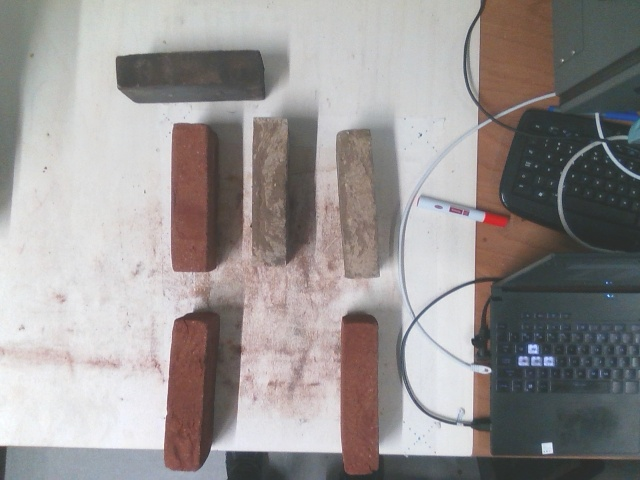brick-side: (339, 127, 381, 278), (163, 318, 204, 468), (343, 323, 376, 472), (252, 114, 285, 263), (171, 122, 204, 270), (117, 51, 257, 85)
